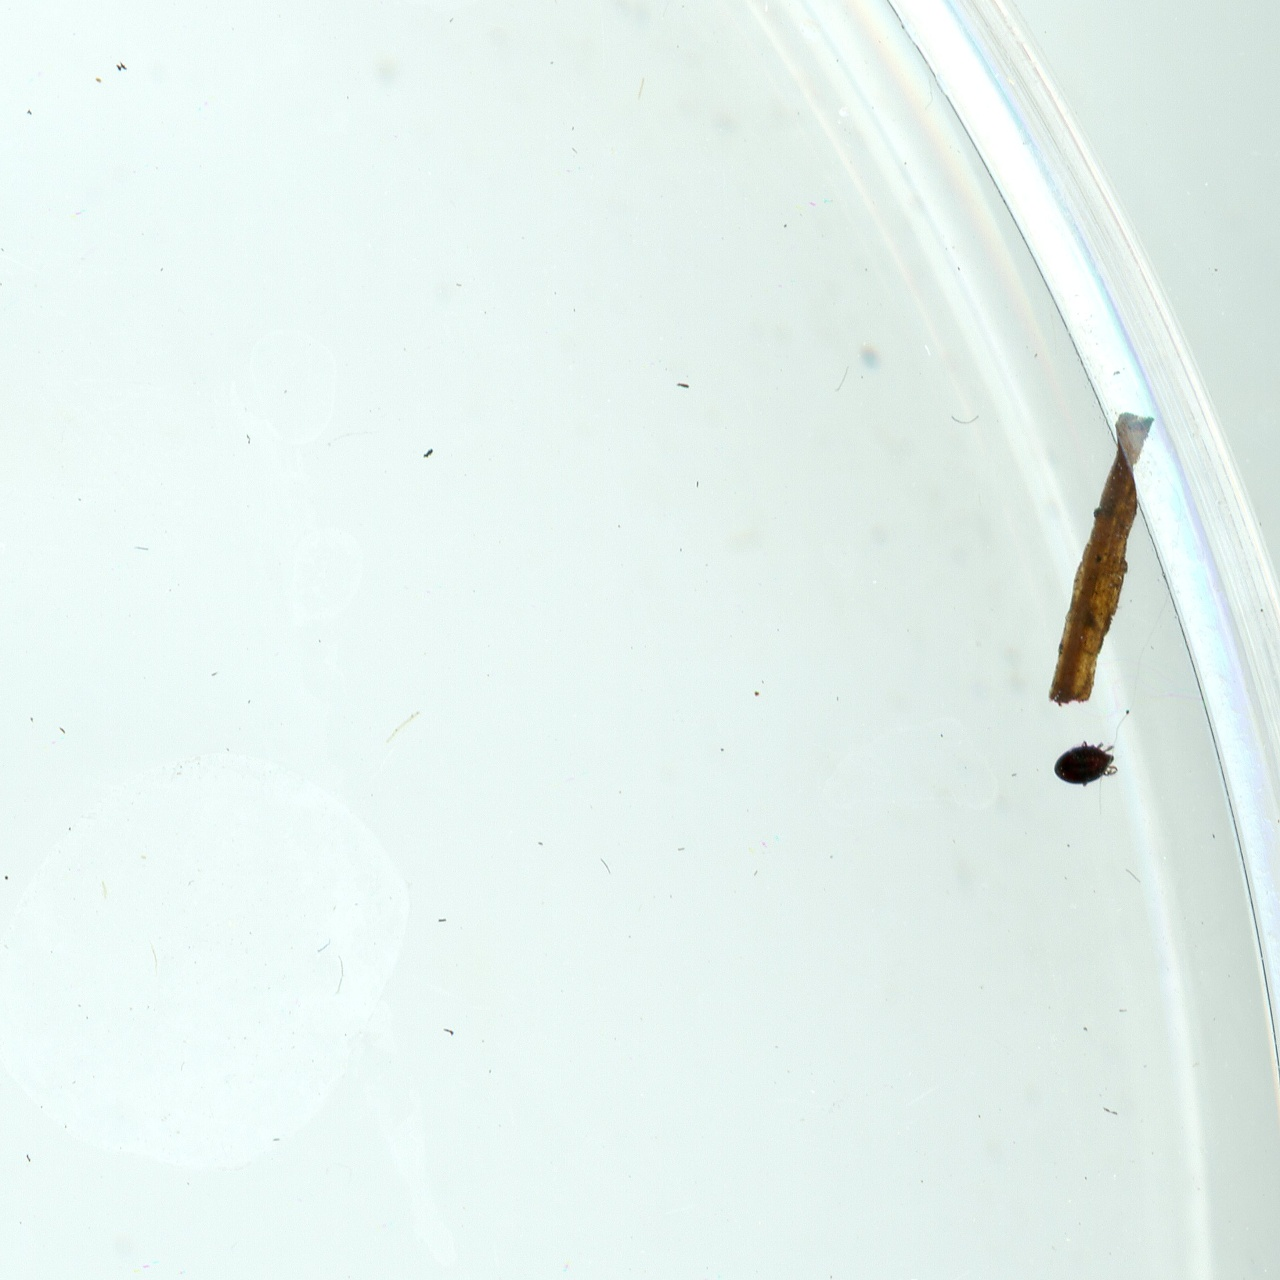arthropod: (1049, 735, 1123, 794)
